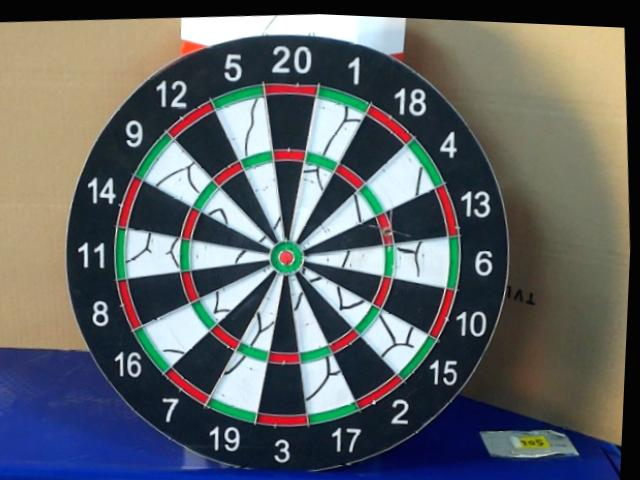double_13: (378, 214, 394, 253)
